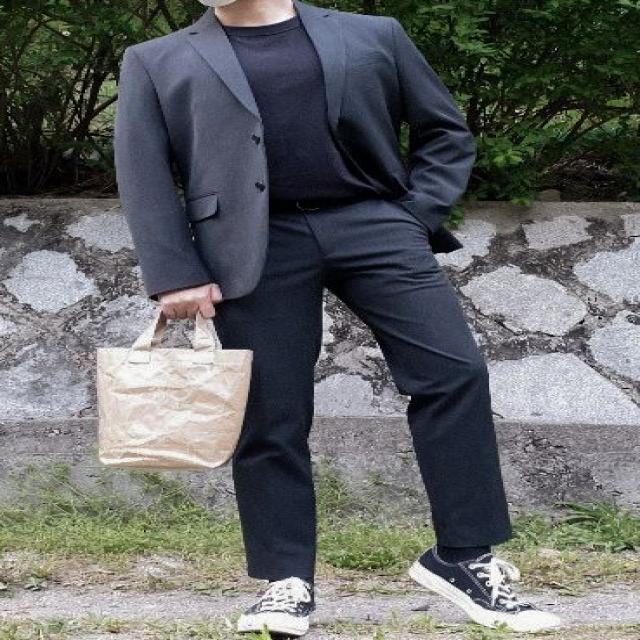blazer: (111, 3, 482, 302)
slacks: (195, 204, 516, 580)
